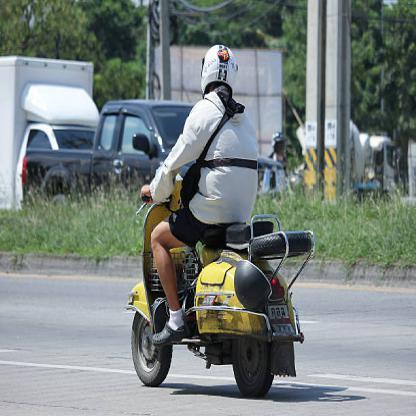Motorcycle: (118, 134, 310, 397)
